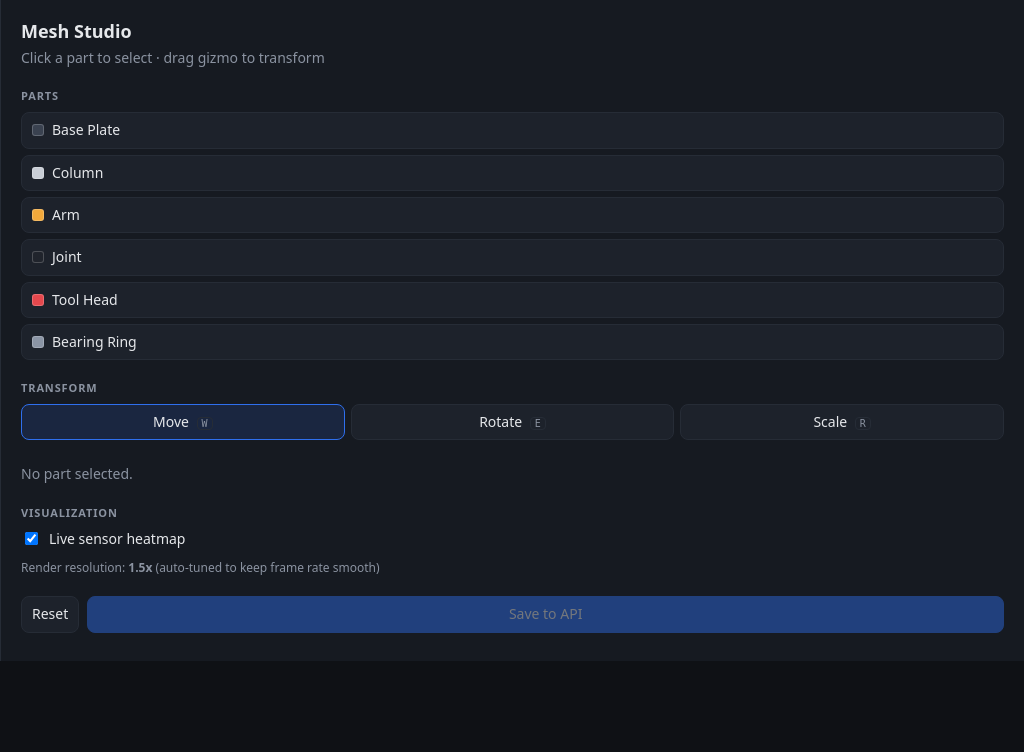
<ControlPanel> › editing a material value updates the readout and enables Save
Click the button "Arm" at (38,215), box [21, 197, 1004, 233]
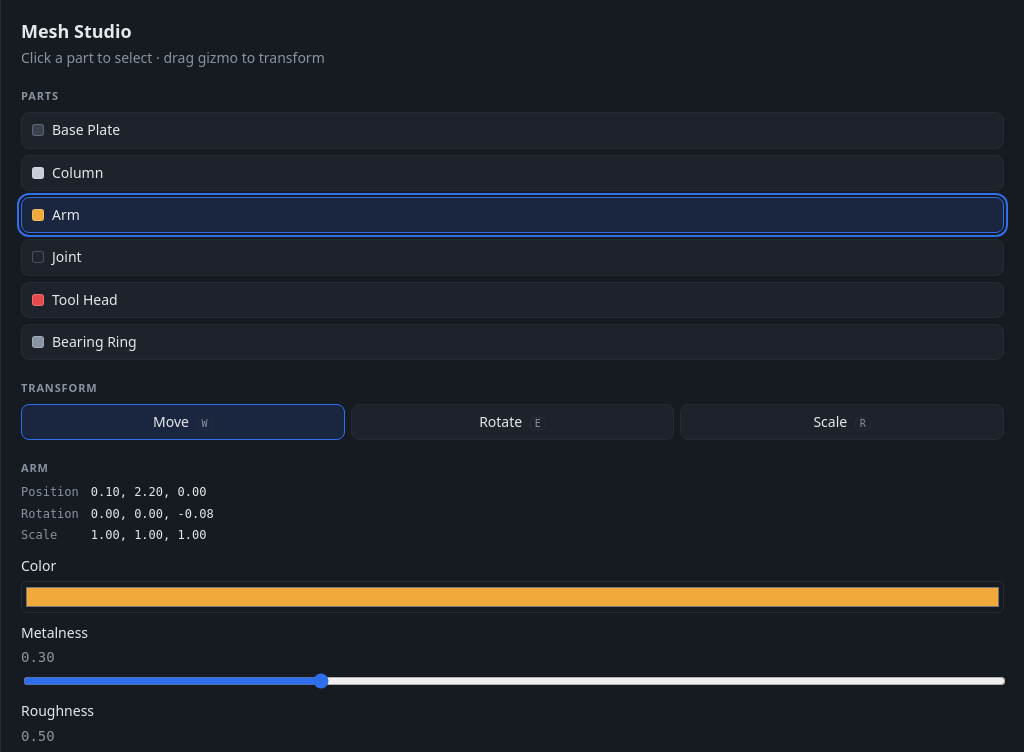
Set the slider labelled "Metalness 0.30" to "0.9" at (901,681), box [23, 673, 1006, 689]
(page scrolled)
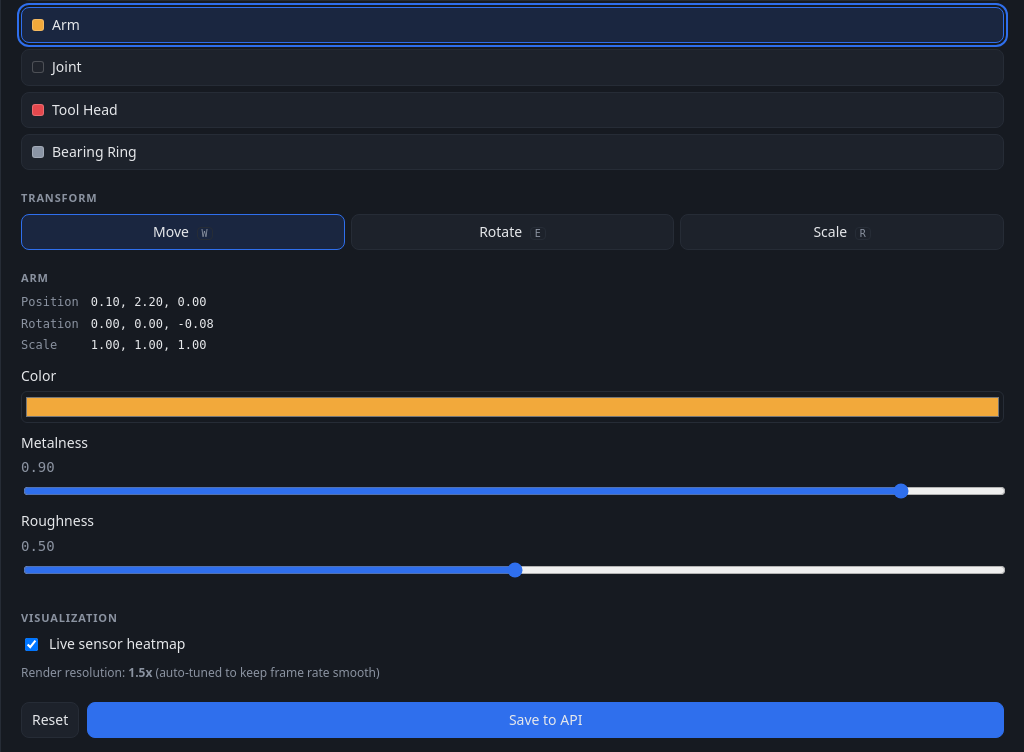
Result: the text "0.90" is shown at [21, 459, 55, 475]
Result: the button "Save to API" is enabled at [87, 702, 1004, 738]
